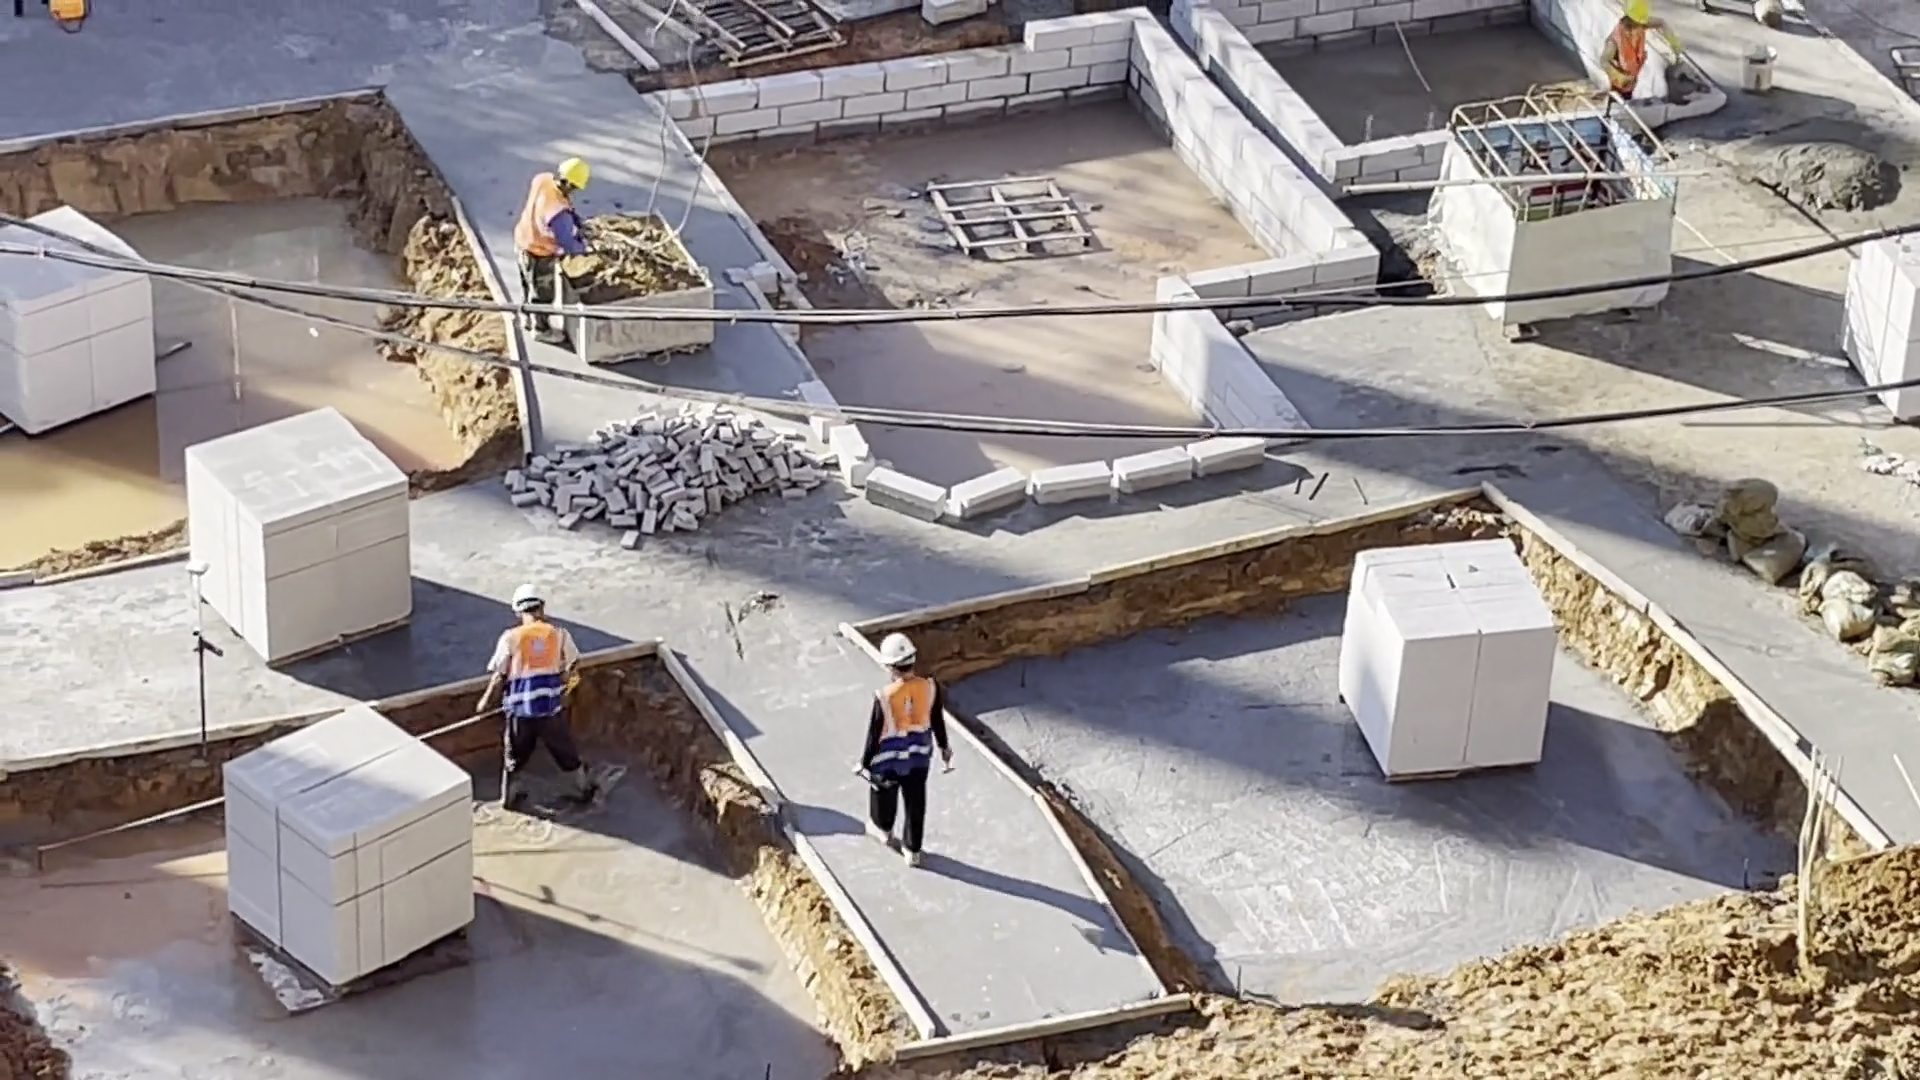brick: (220, 701, 486, 989), (180, 404, 416, 664), (1343, 532, 1552, 779), (5, 272, 154, 439), (1826, 254, 1920, 395)
helmet: (870, 634, 917, 664), (555, 155, 589, 195), (510, 581, 546, 613)
person: (478, 586, 603, 817), (851, 634, 952, 869), (504, 145, 591, 349)
vest: (501, 625, 576, 720), (874, 677, 934, 778), (516, 171, 567, 260)
